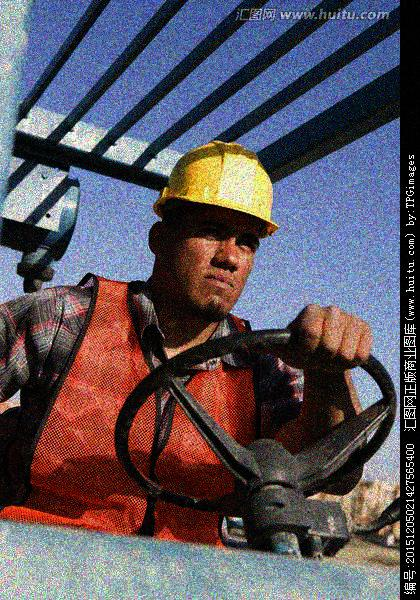helmet: (147, 139, 278, 318)
